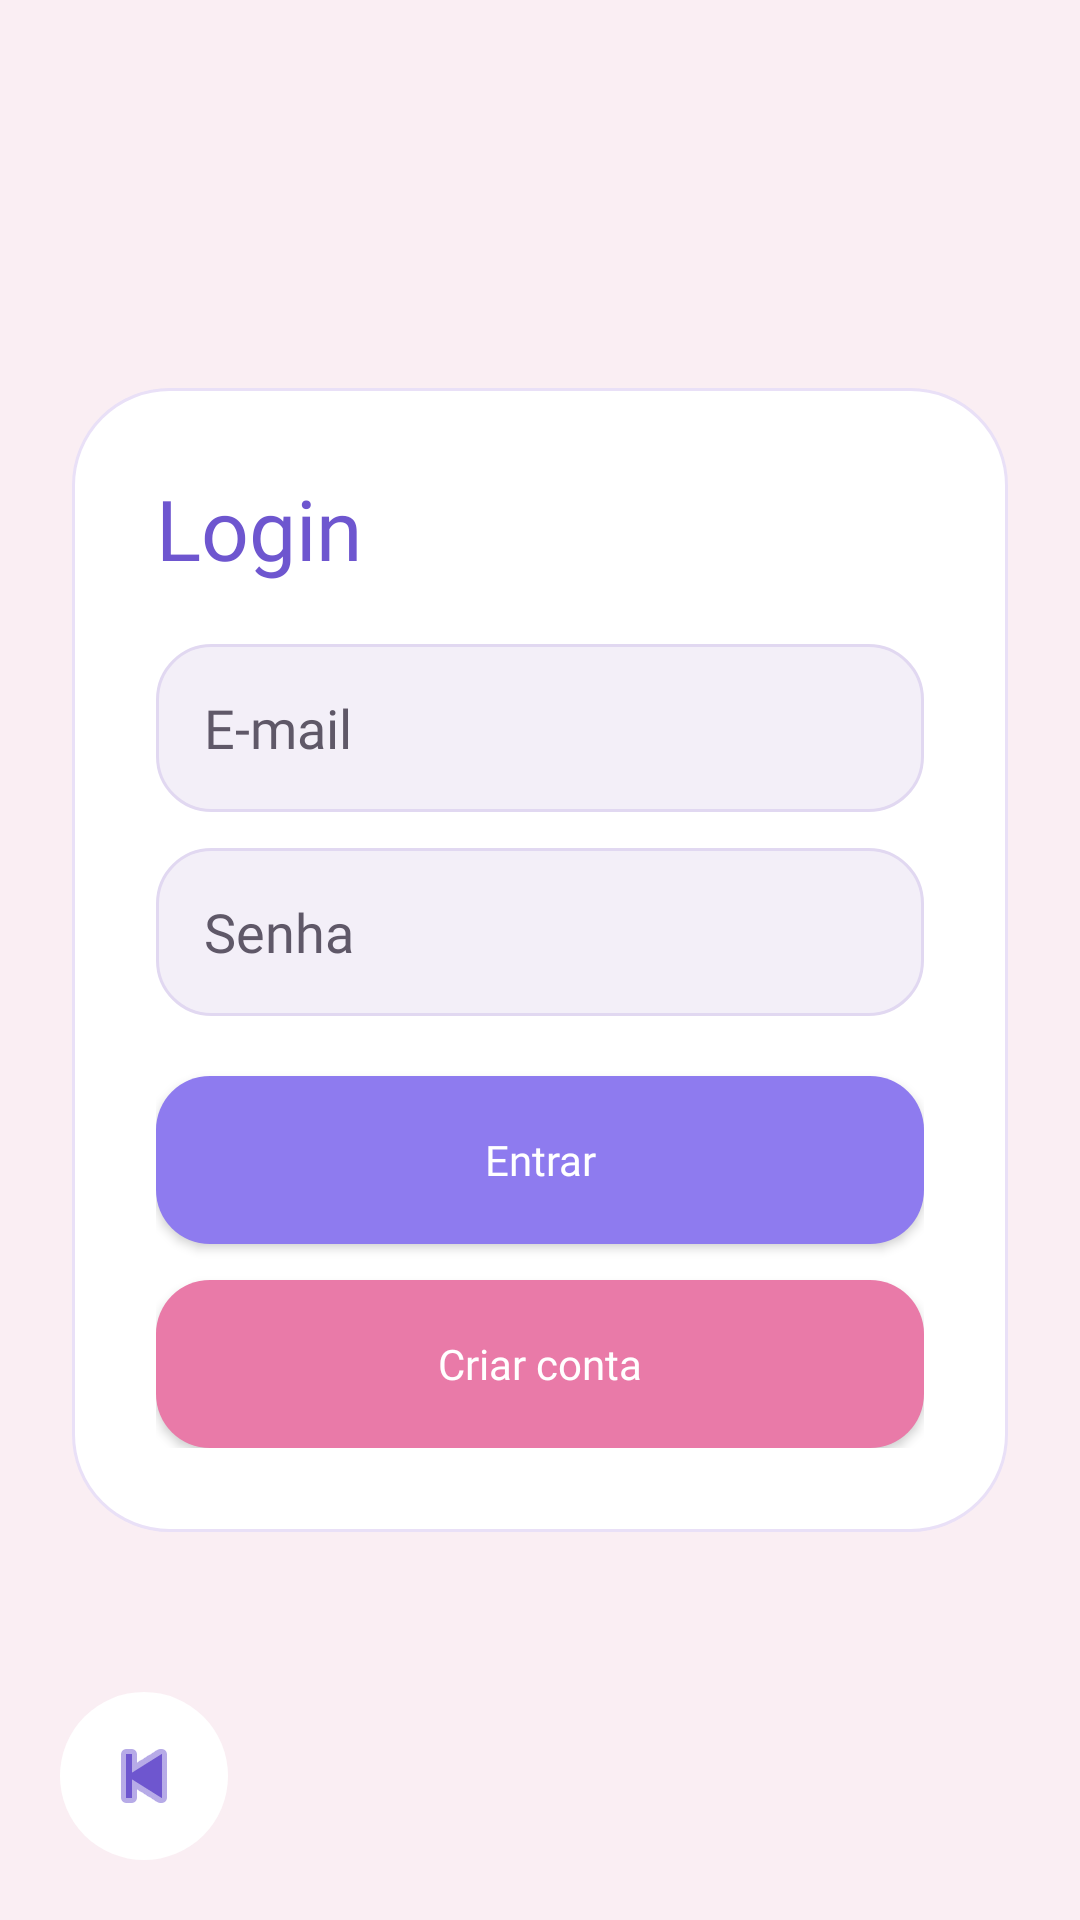

Where icons sit on this 1080*1920 app screen, as (x1=x1, y1=y1, x2=x2, y2=y2):
previous: (x1=121, y1=1749, x2=167, y2=1803)
